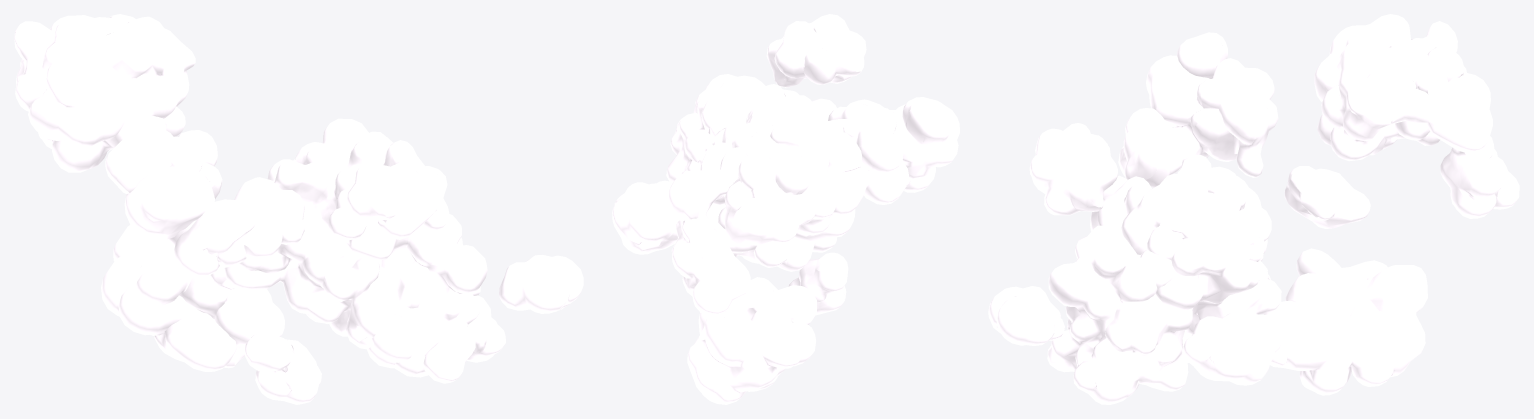
The model's file is clouds-WRM-7X7x.glb.
3 views of the same model, side by side, from view 1: azimuth 30°, elevation 25°; view 2: azimuth 150°, elevation 25°; view 3: azimuth 270°, elevation 25° (orthographic). The views are drawn at different scales.
Visible parts, largest first — view 1: base1; view 2: base1; view 3: base1.
Boxes of the visible parts, x1=… form: base1: x1=14, y1=14, x2=583, y2=404; base1: x1=612, y1=14, x2=959, y2=404; base1: x1=988, y1=14, x2=1519, y2=404.
Size of the model in its own units: 15.42 by 13.69 by 20.27.
1 material, 1 textured.
